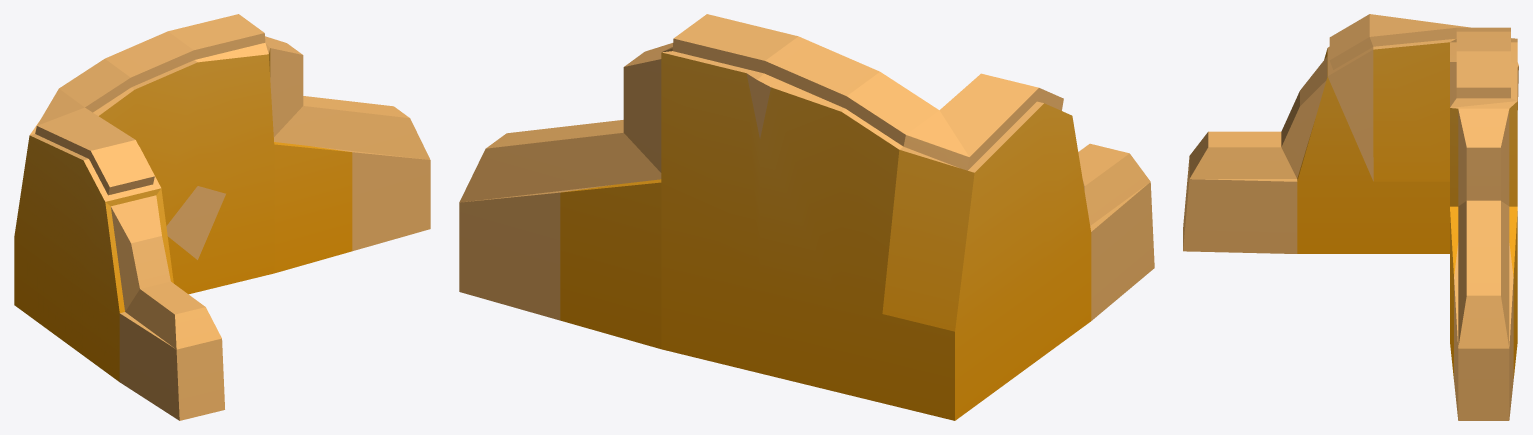
File: Prop_Broken_Wall_A_02.fbx
3 views of the same model, side by side, from view 1: azimuth 30°, elevation 25°; view 2: azimuth 150°, elevation 25°; view 3: azimuth 270°, elevation 25° (orthographic). The views are drawn at different scales.
Parts seen in each view (by area): view 1: Prop_Broken_Wall_A_02; view 2: Prop_Broken_Wall_A_02; view 3: Prop_Broken_Wall_A_02.
Part boxes in pixels (x1=…): Prop_Broken_Wall_A_02: x1=14, y1=14, x2=430, y2=420; Prop_Broken_Wall_A_02: x1=459, y1=14, x2=1154, y2=420; Prop_Broken_Wall_A_02: x1=1183, y1=14, x2=1518, y2=420.
Bounding box in the file's own units: 307 × 181 × 220.
